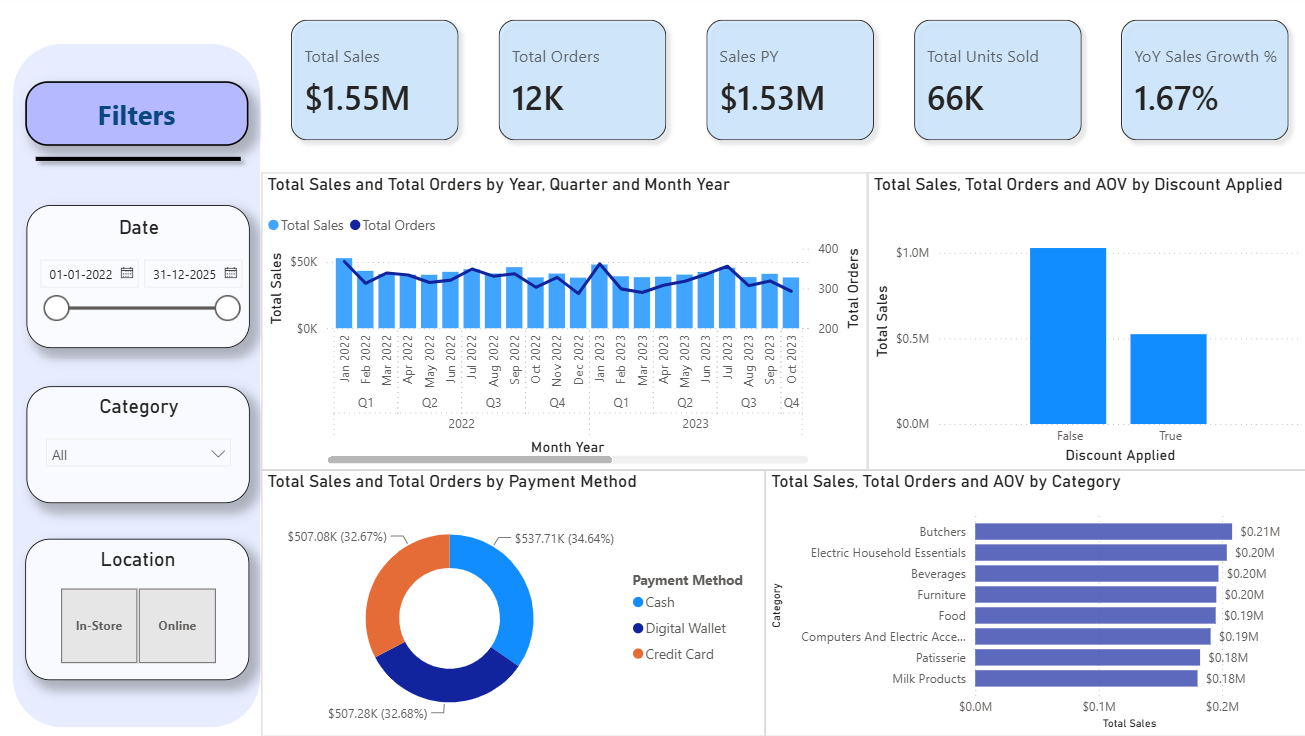

The dashboard page shown, as its layout file describes it:
{"tool":"powerbi","page":{"name":"Page 1","canvas":[1280,720],"ordinal":0},"visuals":[{"type":"shape","box":[13.5,42.8,242.1,668.9],"z":0},{"type":"textbox","box":[25.7,79.5,218.6,62.9],"z":1000},{"type":"shape","box":[26.9,141.8,218.6,27.1],"z":2000},{"type":"slicer","title":"Date","fields":{"Values":["Dim_Date.Date"]},"box":[26.9,200.5,218.6,140],"z":3000},{"type":"slicer","title":"Category","fields":{"Values":["retail_store_sales.Category"]},"box":[26.9,377.9,218.6,114.3],"z":4000},{"type":"slicer","title":"Location","fields":{"Values":["retail_store_sales.Location"]},"box":[25.7,527,218.9,138.2],"z":5000},{"type":"cardVisual","fields":{"Data":["_Measures.Total Sales","_Measures.Total Orders","_Measures.Sales PY","_Measures.Total Units Sold","_Measures.YoY Sales Growth %"]},"box":[256.8,2.4,1023.5,152.9],"z":6000},{"type":"lineClusteredColumnComboChart","fields":{"Y":["_Measures.Total Sales"],"Y2":["_Measures.Total Orders"],"Category":["Dim_Date.Year","Dim_Date.Quarter","Dim_Date.Month Year"]},"box":[256.8,168.8,593.1,291],"z":7000},{"type":"clusteredBarChart","fields":{"Y":["_Measures.Total Sales"],"Category":["retail_store_sales.Category"]},"box":[749.6,459.8,530.7,260.5],"z":8000},{"type":"donutChart","fields":{"Category":["retail_store_sales.Payment Method"],"Y":["_Measures.Total Sales"]},"box":[256.8,459.8,492.8,260.5],"z":9000},{"type":"clusteredColumnChart","fields":{"Y":["_Measures.Total Sales"],"Category":["retail_store_sales.Discount Applied"]},"box":[849.9,168.8,430.4,291],"z":10000}]}

Visuals, with their boxes in screenshot pixels (x1, y1, x2, y2), scaled from the page's 1280x720 canvas onto the 1305x736 screenshot:
shape: {"left": 14, "top": 44, "right": 261, "bottom": 728}
textbox: {"left": 26, "top": 81, "right": 249, "bottom": 146}
shape: {"left": 27, "top": 145, "right": 250, "bottom": 173}
"Date" slicer: {"left": 27, "top": 205, "right": 250, "bottom": 348}
"Category" slicer: {"left": 27, "top": 386, "right": 250, "bottom": 503}
"Location" slicer: {"left": 26, "top": 539, "right": 249, "bottom": 680}
cardVisual - _Measures.Total Sales x _Measures.Total Orders: {"left": 262, "top": 2, "right": 1304, "bottom": 159}
lineClusteredColumnComboChart - _Measures.Total Sales x _Measures.Total Orders: {"left": 262, "top": 173, "right": 866, "bottom": 470}
clusteredBarChart - _Measures.Total Sales x retail_store_sales.Category: {"left": 764, "top": 470, "right": 1304, "bottom": 735}
donutChart - retail_store_sales.Payment Method x _Measures.Total Sales: {"left": 262, "top": 470, "right": 764, "bottom": 735}
clusteredColumnChart - _Measures.Total Sales x retail_store_sales.Discount Applied: {"left": 866, "top": 173, "right": 1304, "bottom": 470}
